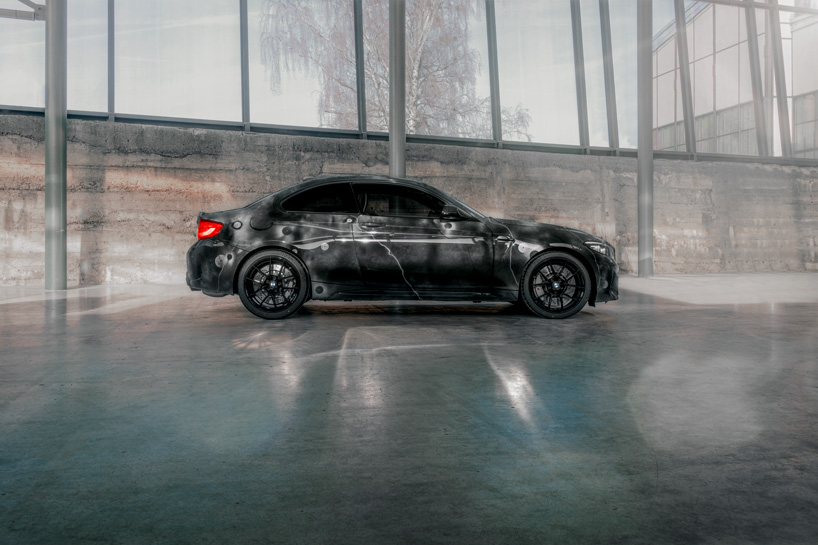car: (183, 169, 623, 320)
